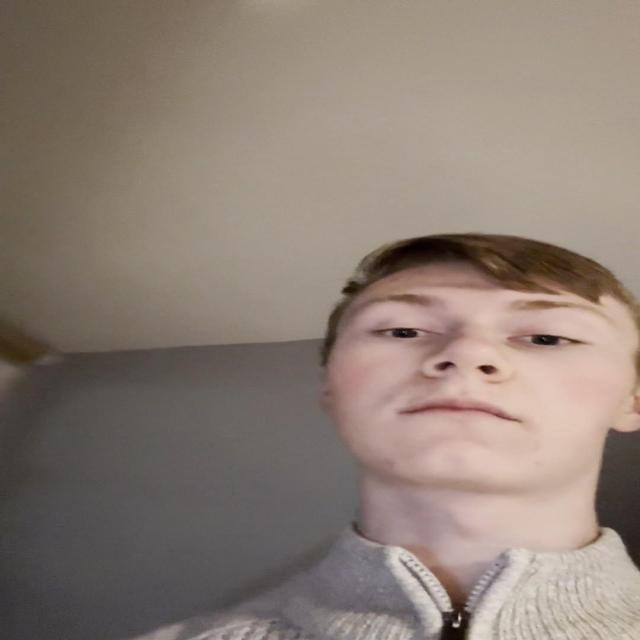no-helmet: (332, 264, 634, 488)
